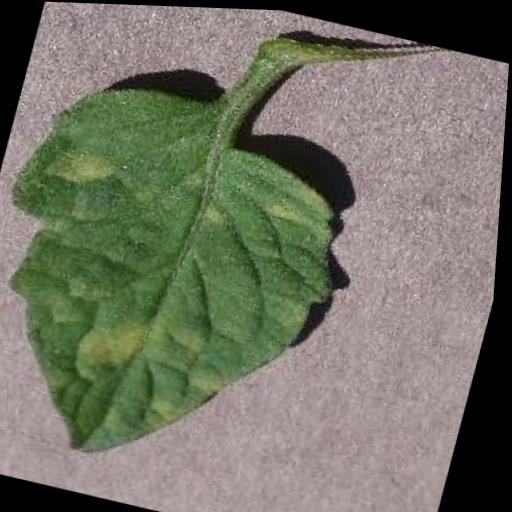Leaf Mold: (0, 61, 377, 500)
